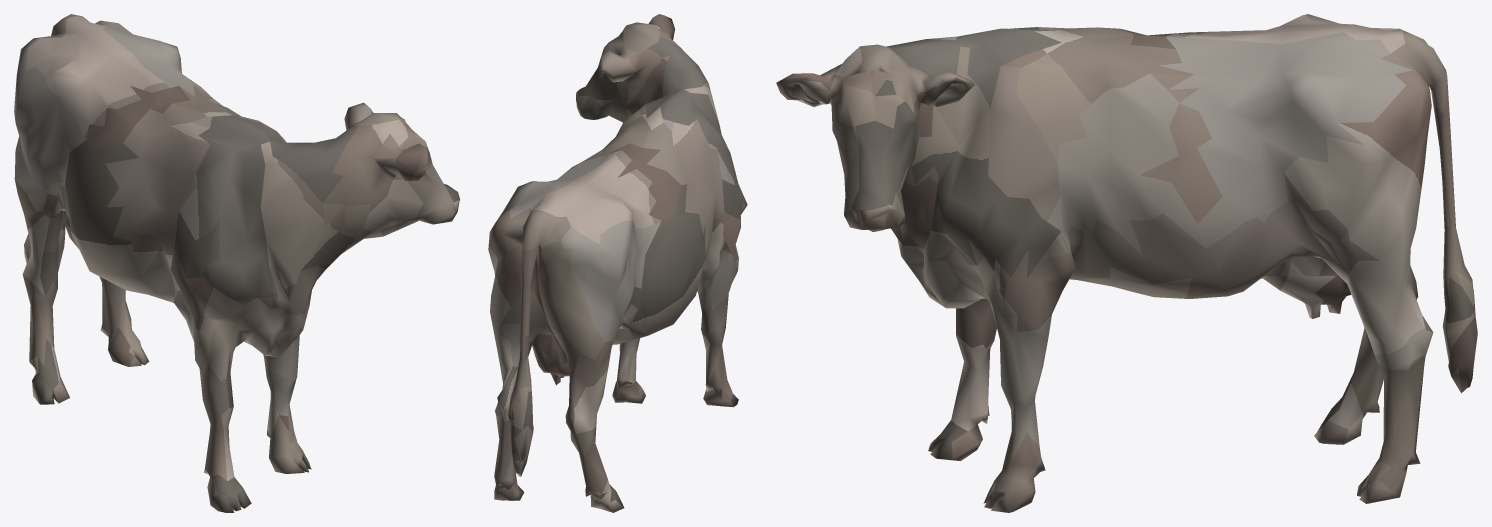
Rendered from cow.glb.
3 renders of one model, left to right at view 1: azimuth 30°, elevation 25°; view 2: azimuth 150°, elevation 25°; view 3: azimuth 270°, elevation 25°, orthographic. The views are drawn at different scales.
Visible parts, largest first — view 1: LO.001; view 2: LO.001; view 3: LO.001.
Part boxes in pixels (x1,y1,x2,y2): LO.001: [14, 14, 459, 512]; LO.001: [488, 14, 747, 512]; LO.001: [776, 14, 1477, 512].
Size of the model in its own units: 1.19 by 1.73 by 2.3.
Materials: 1 (1 with a texture image).
